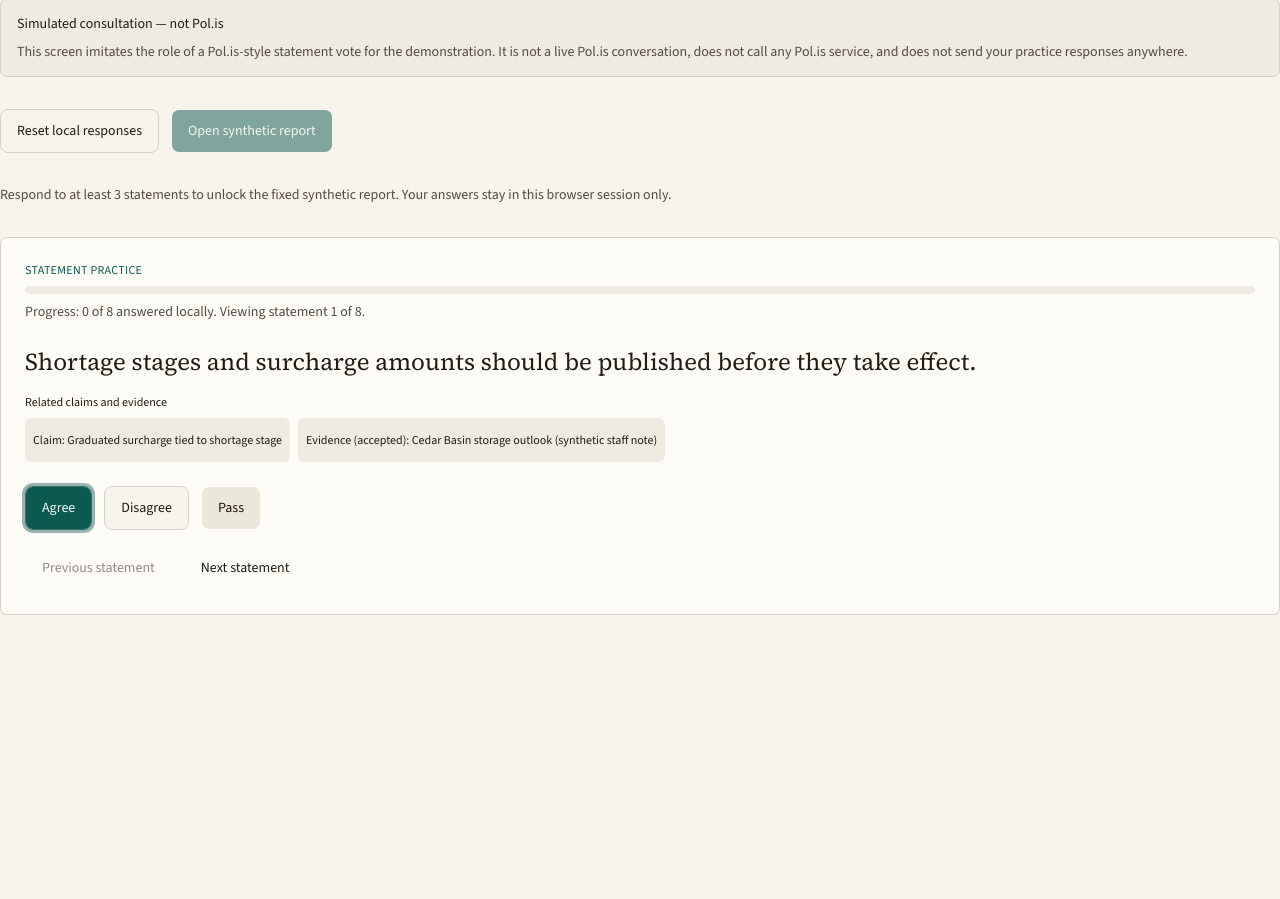
Test case: ConsultationSimulator › supports keyboard Agree, Disagree, and Pass and announces statement changes
The width and height of the screenshot is (1280, 899).
Expected: the text "not a live Pol.is conversation" is shown, [17,42,1188,61]
Press Enter
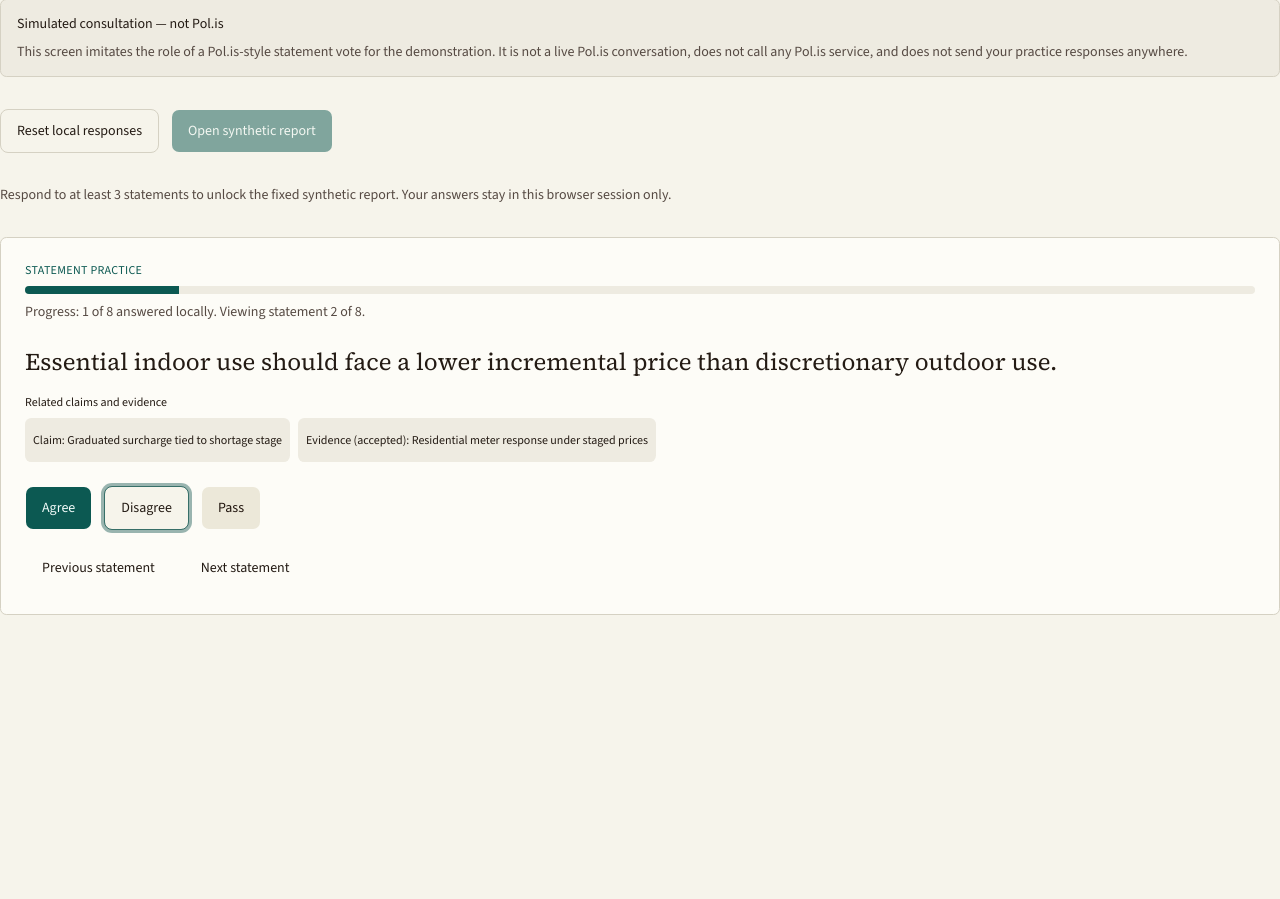
Expected: the progress indicator has attribute aria-valuenow="1", [25,286,1255,294]
Press Enter
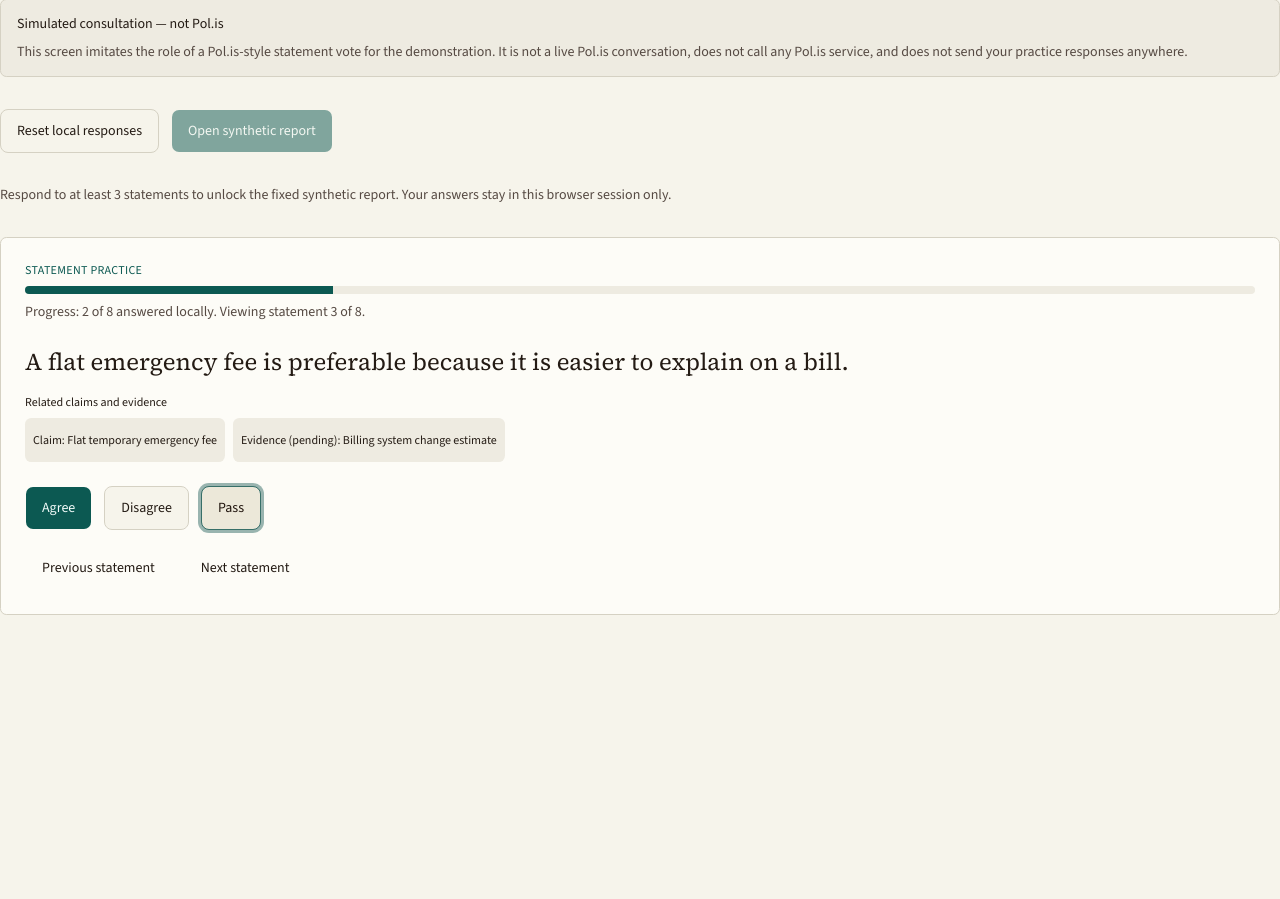
Type keys " "
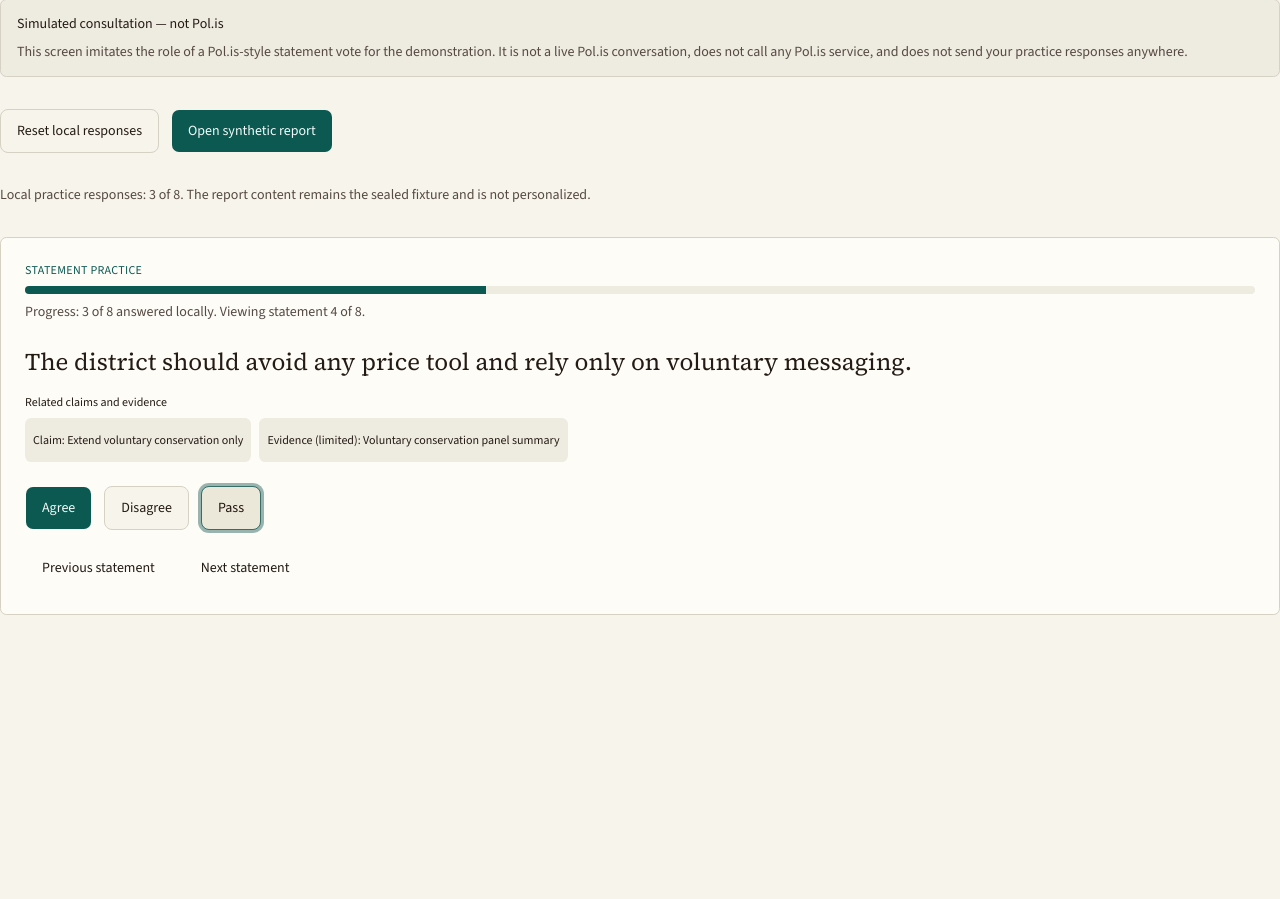
Expected: the button "Open synthetic report" is enabled
Click the button "Open synthetic report" at point(252, 131), box [171,109,333,153]
(page scrolled)
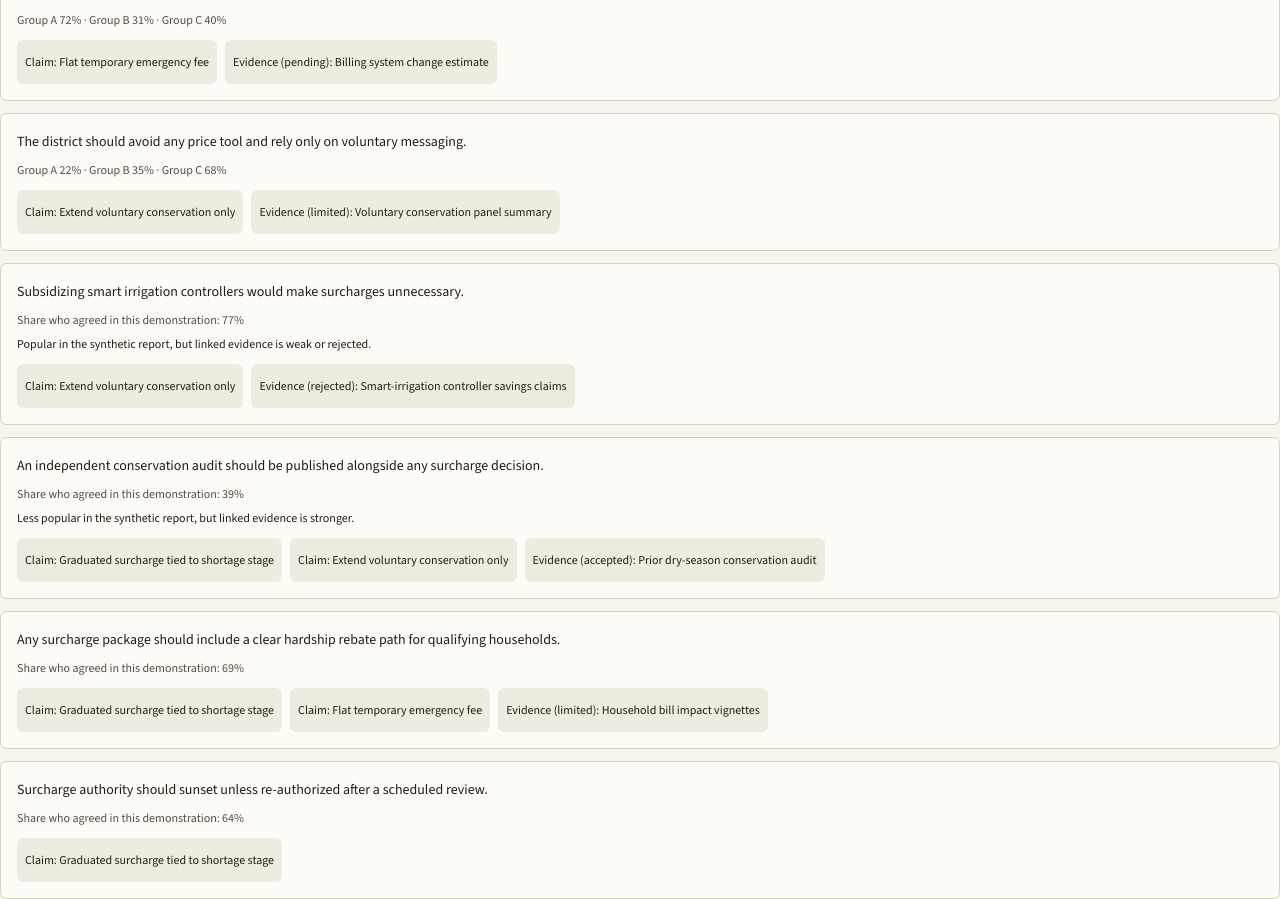
Expected: the text "Popular in the synthetic report, but linked evidence is weak or rejected" is shown, [17,336,371,352]
Expected: the text "Less popular in the synthetic report, but linked evidence is stronger" is shown, [17,510,354,526]
